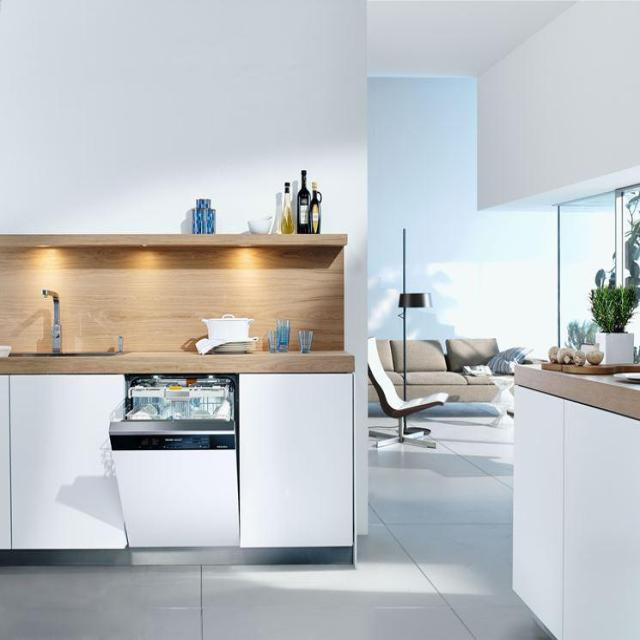dishwasher: (108, 372, 238, 566)
